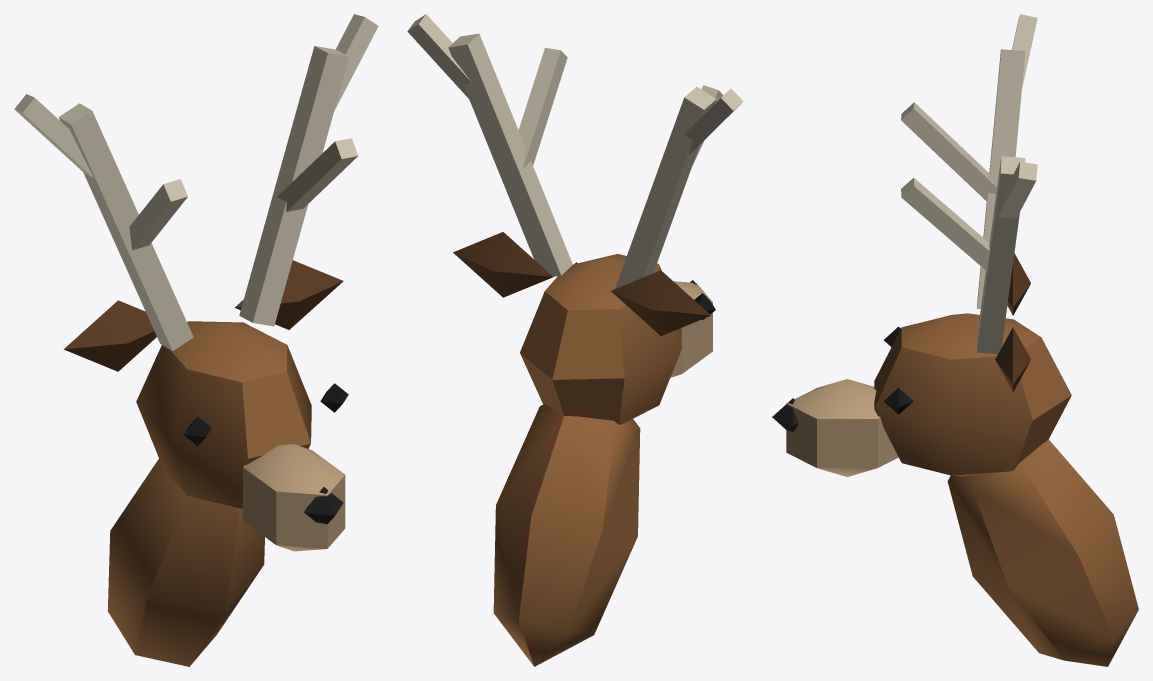
Rendered from fld_deer_head.glb.
3 views of the same model, side by side, from view 1: azimuth 30°, elevation 25°; view 2: azimuth 150°, elevation 25°; view 3: azimuth 270°, elevation 25° (orthographic). The views are drawn at different scales.
Parts seen in each view (by area): view 1: fld_deer_head; view 2: fld_deer_head; view 3: fld_deer_head.
Part boxes in pixels (x1=…): fld_deer_head: x1=14, y1=14, x2=378, y2=666; fld_deer_head: x1=407, y1=14, x2=743, y2=666; fld_deer_head: x1=772, y1=14, x2=1138, y2=666.
Size of the model in its own units: 0.125 by 0.212 by 0.1217.
